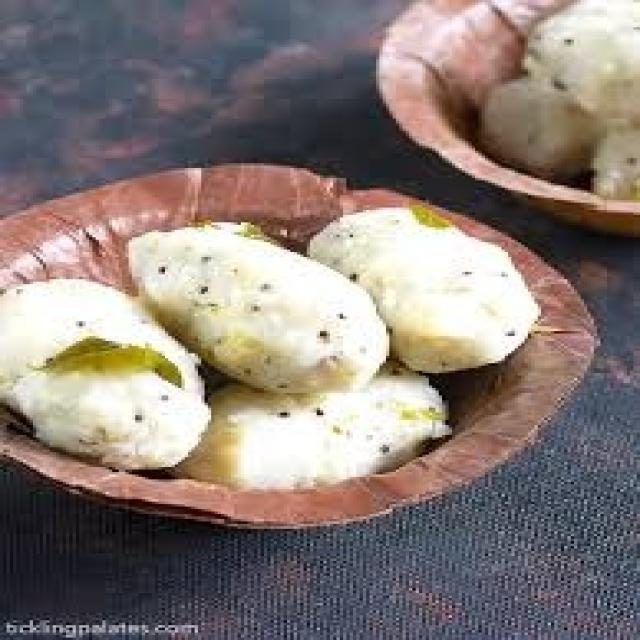pidi kolukattai: (0, 149, 517, 520)
